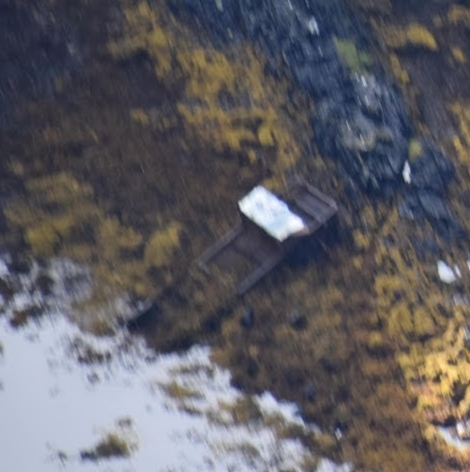cuboid: (179, 173, 345, 298), (233, 180, 307, 246)
straight_bar: (118, 293, 167, 338)
white_in_green: (379, 146, 434, 196), (420, 243, 470, 294)
